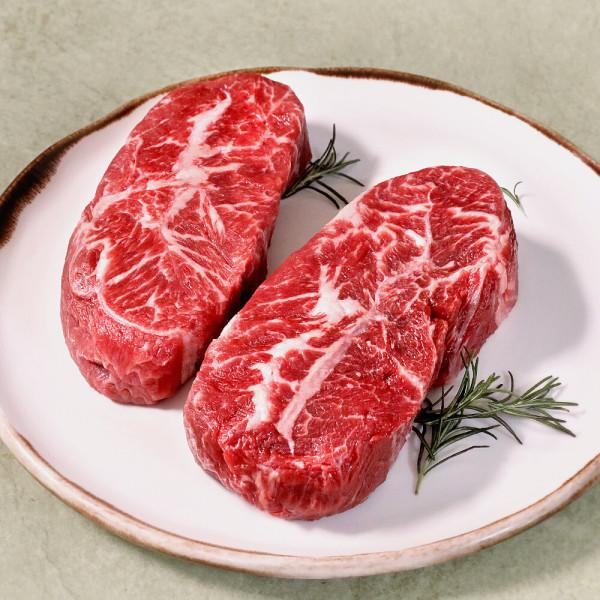beef: (183, 155, 481, 476), (60, 71, 279, 370)
